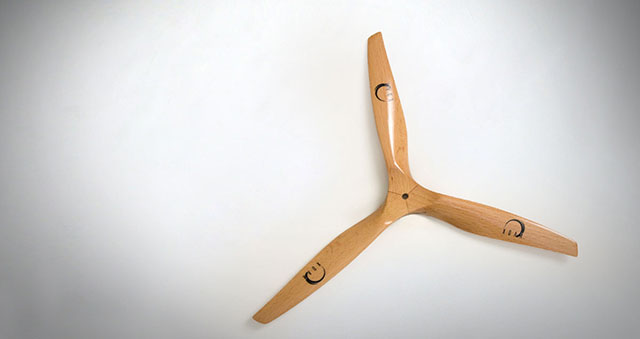Propeller: (251, 40, 580, 325)
